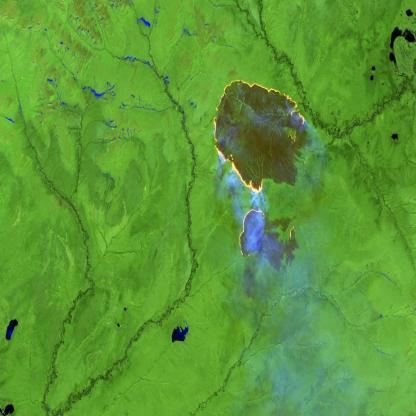fire: (211, 74, 307, 196), (234, 206, 268, 261), (284, 222, 301, 245)
